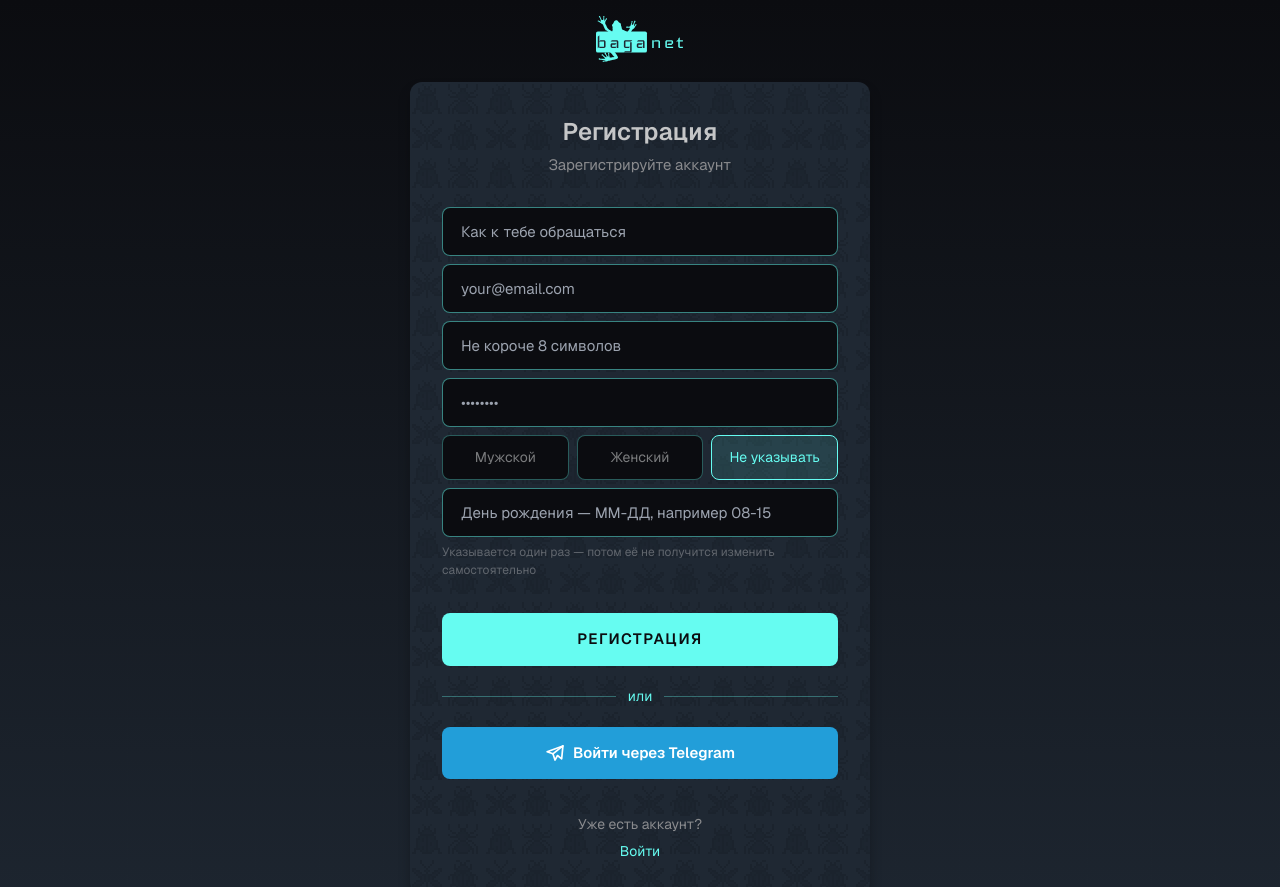
RegisterPage validation, before anything reaches the server › refuses a birthday that is not MM-DD
In the field with placeholder "Как к тебе обращаться": (640, 231) [442, 206, 838, 256], type "Новичок"
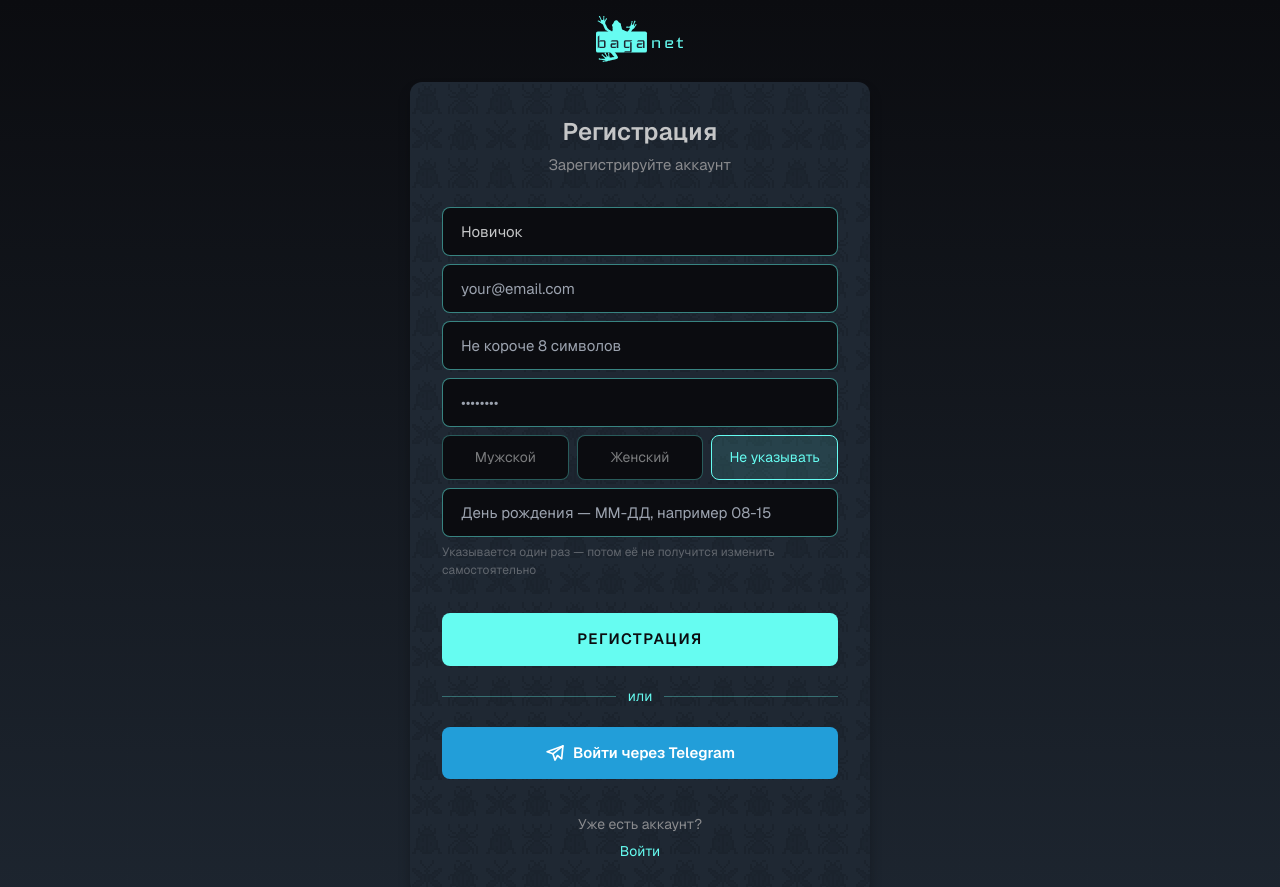
In the field with placeholder "your@email.com": (640, 288) [442, 264, 838, 312], type "new@qa.com"
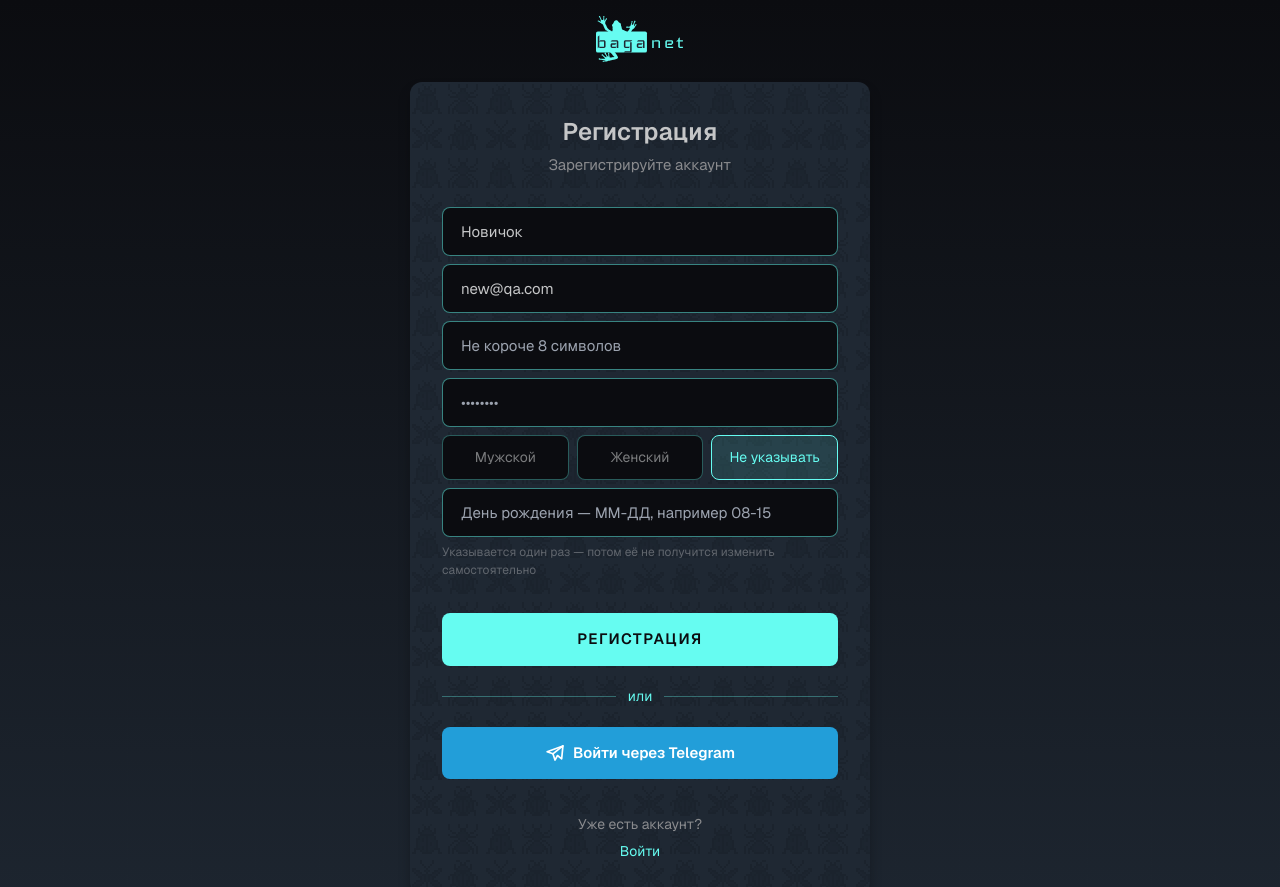
In the password field with placeholder "Не короче 8 символов": (640, 345) [442, 320, 838, 370], type "longenough1"
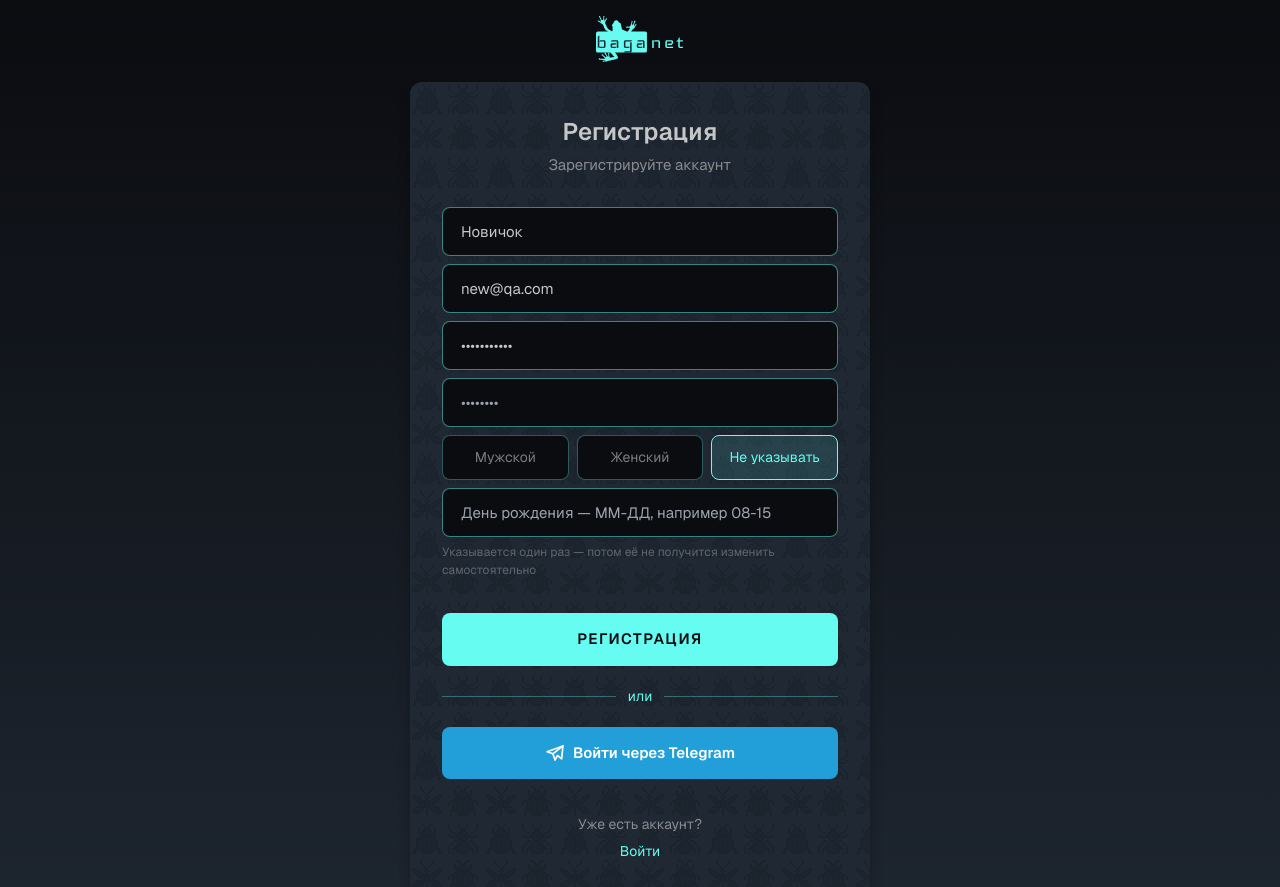
In the password field with placeholder "••••••••": (640, 402) [442, 378, 838, 426], type "longenough1"
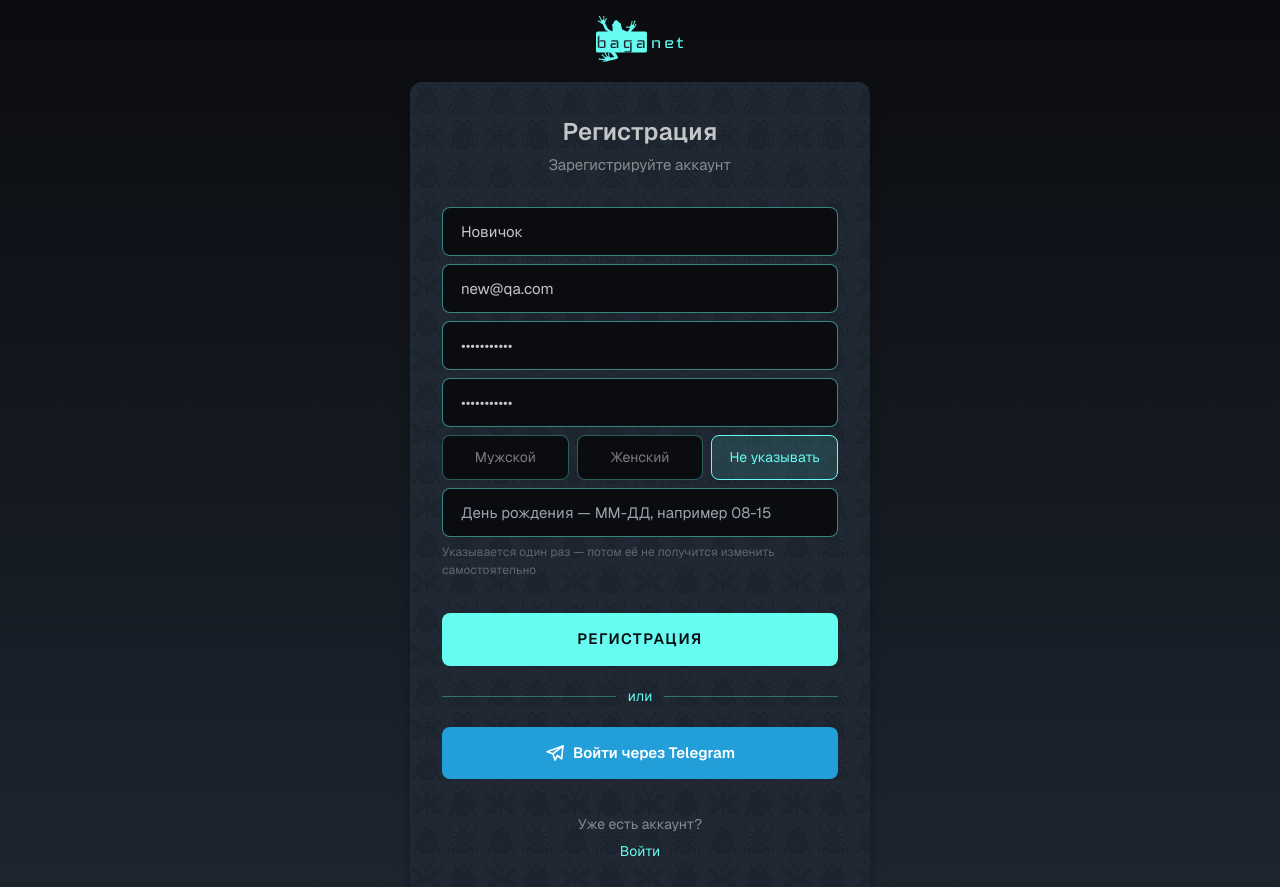
In the field with placeholder "День рождения — ММ-ДД, например 08-15": (640, 513) [442, 488, 838, 537], type "15 августа"
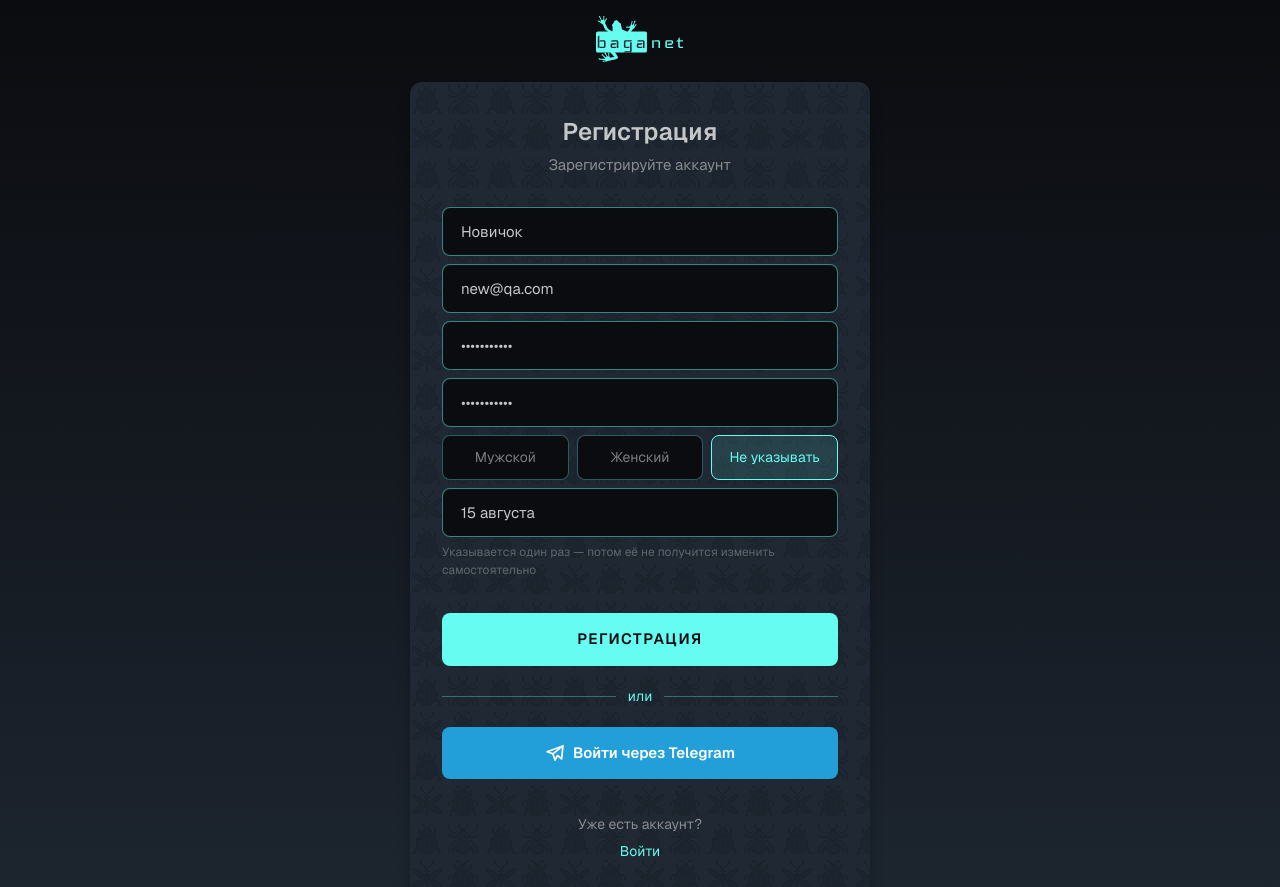
Click the button "Регистрация": (640, 639) [442, 613, 838, 666]
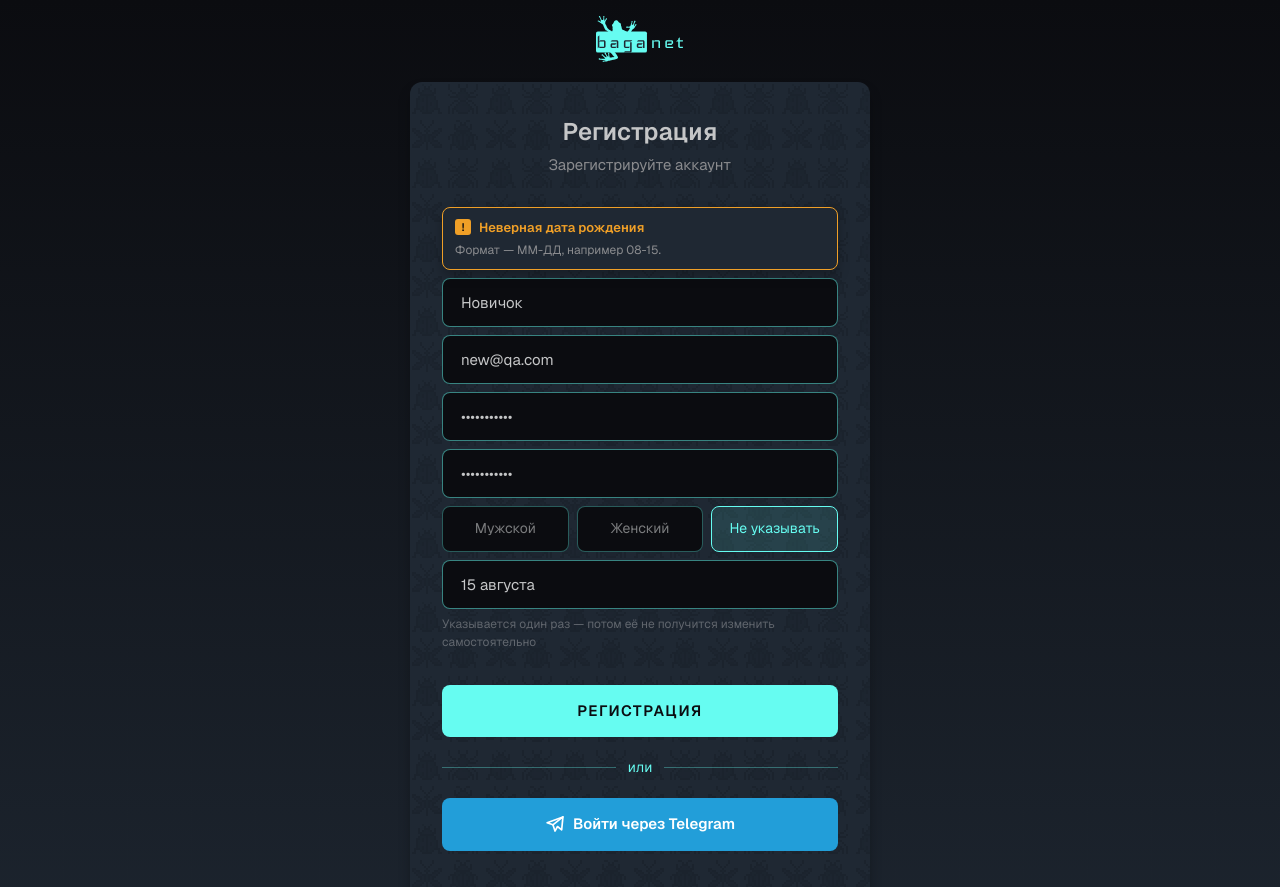
Expected: the text "Формат — ММ-ДД, например 08-15." is shown, [455, 242, 661, 258]
